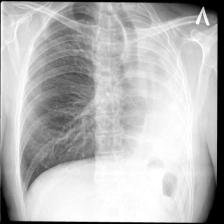tuberculosis: (11, 2, 200, 222)
